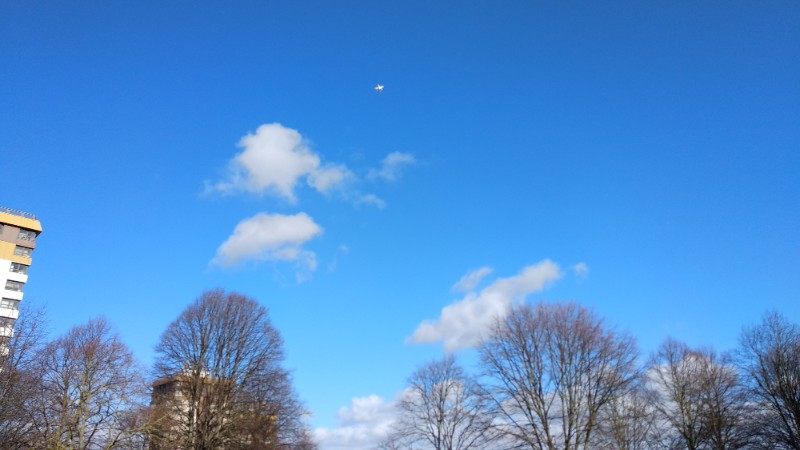drone: (373, 83, 386, 92)
